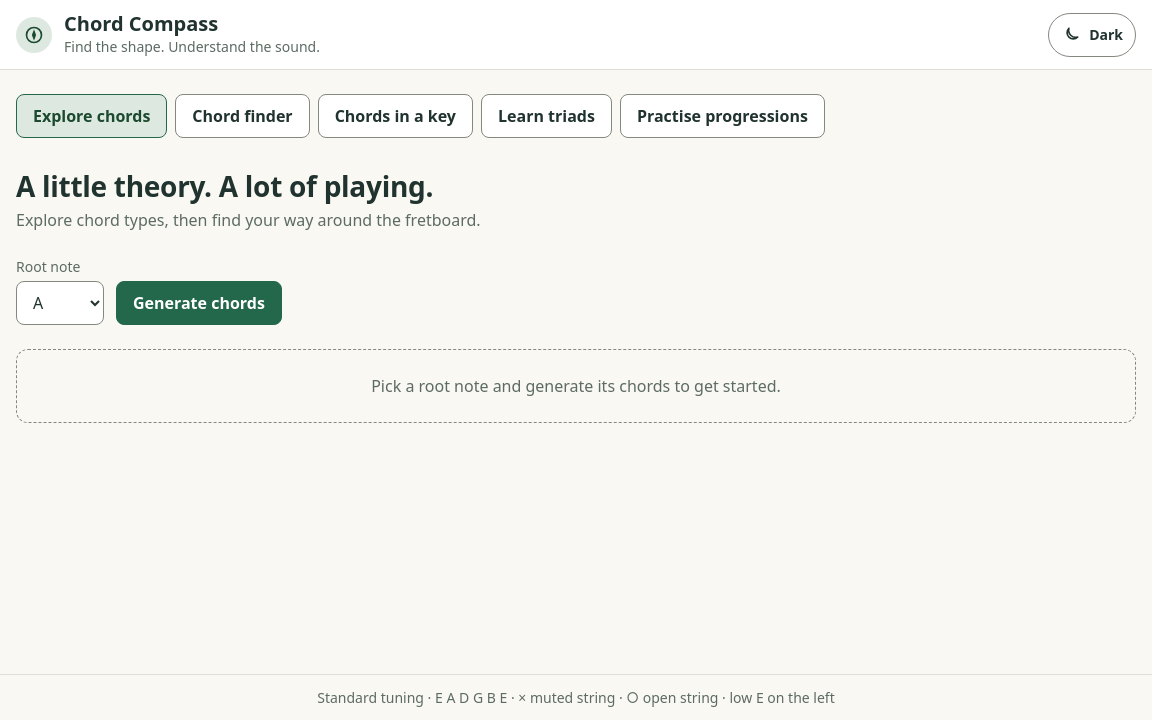
Test case: explore chords › generates every chord type for the chosen root and shows its notes
Select "C" in the dropdown labelled "Root note" at (60, 303), box [16,281,104,325]
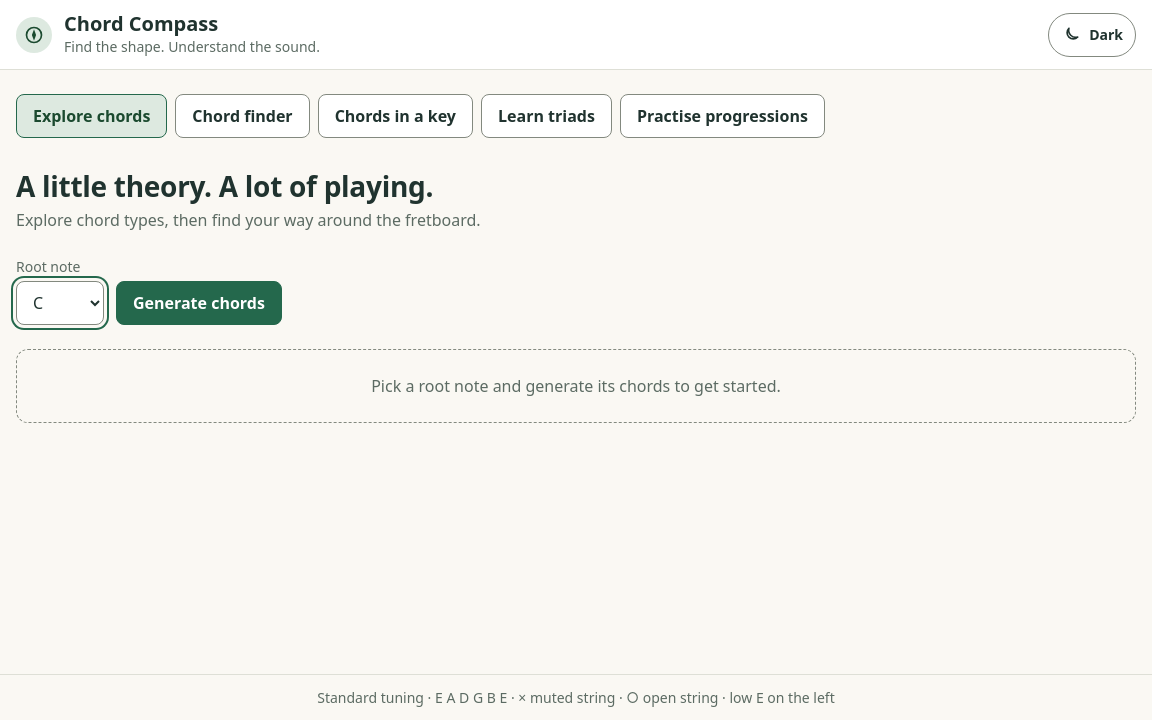
Click the button "Generate chords" at (199, 303), box [116,281,282,325]
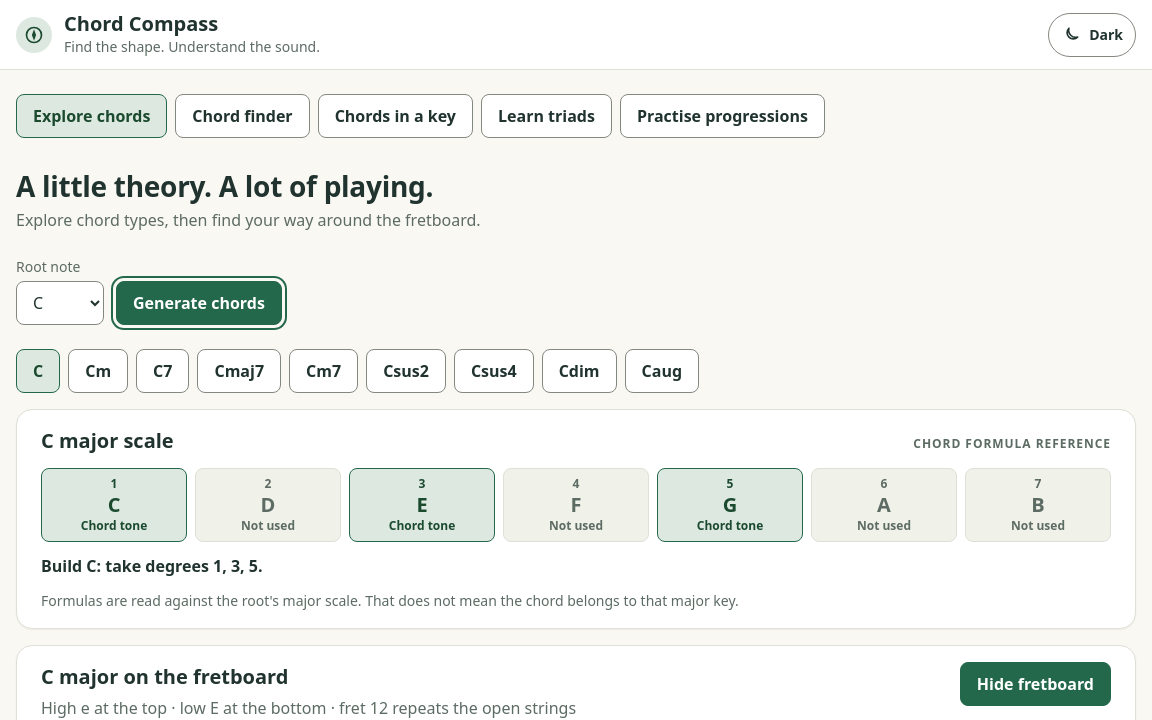
Click the button with aria-label "Cm, C minor" at (98, 371), box [68,349,128,393]
(page scrolled)
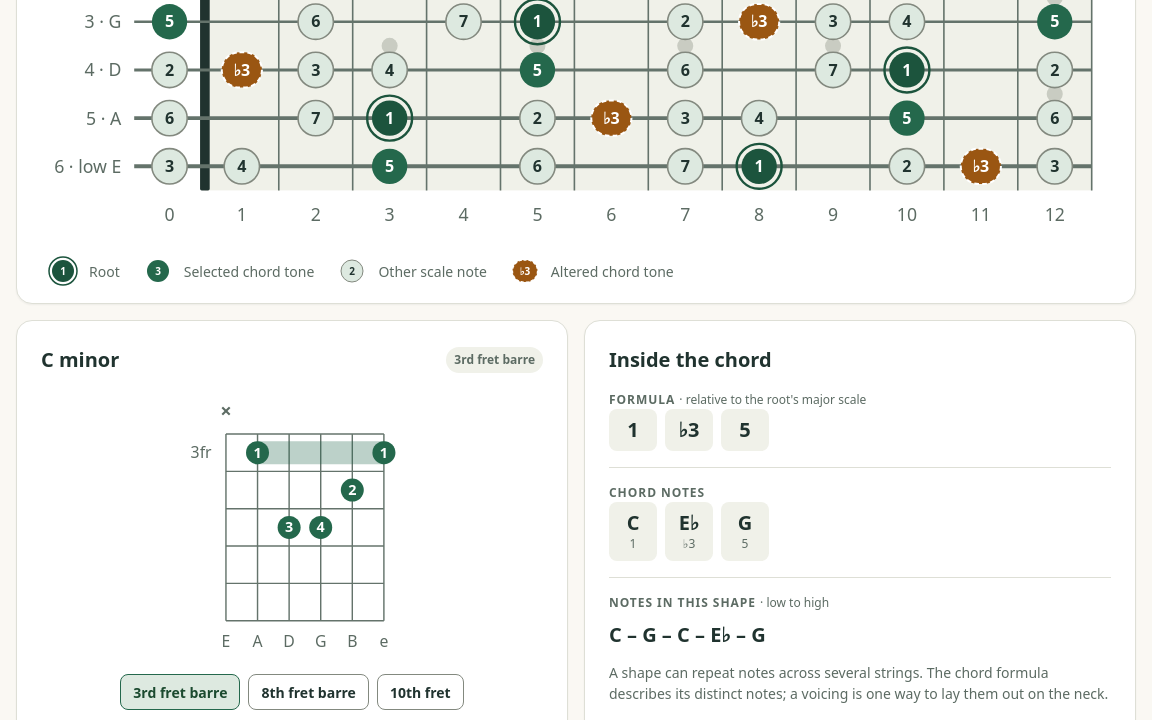
Result: the heading "C minor" is shown at [41,345,119,375]
Result: the list items read "C1", "E♭♭3", "G5", in this order at [609,502,657,561]; [665,502,713,561]; [721,502,769,561]
